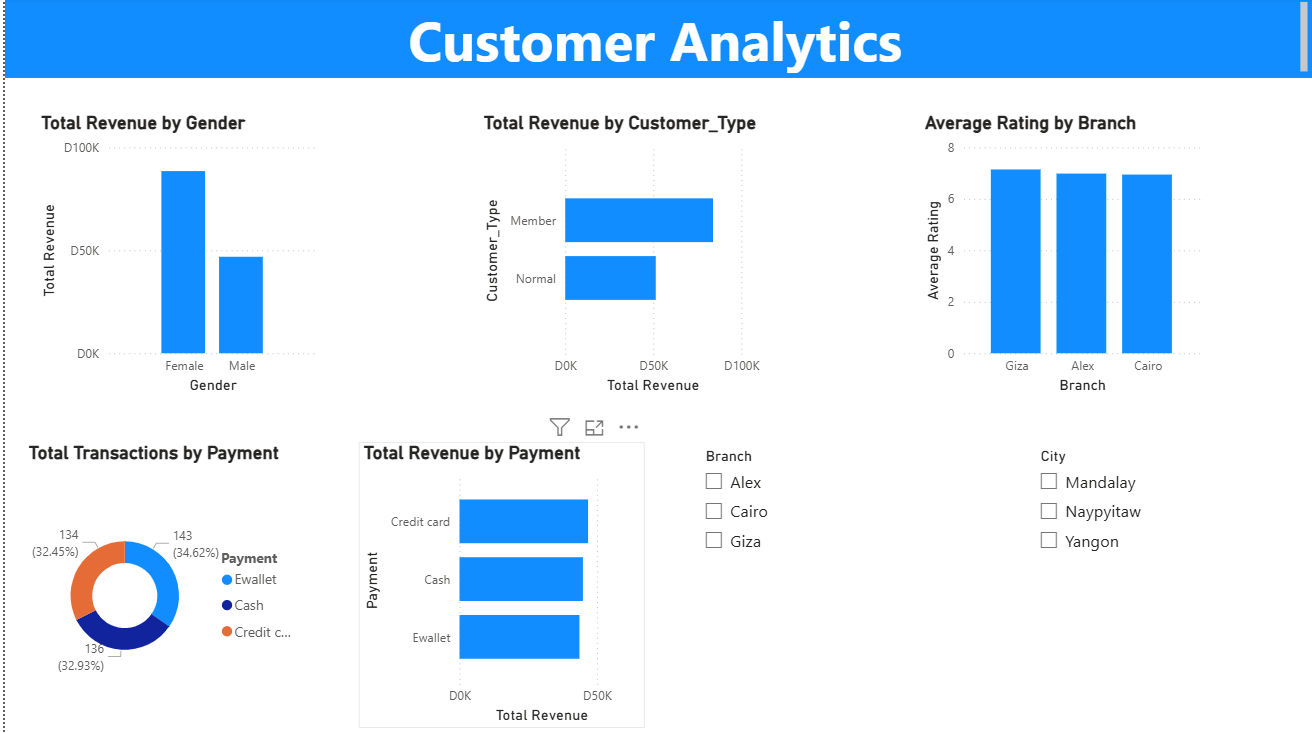

Layout of this report page (visuals, bound fields, positions):
{"tool":"powerbi","page":{"name":"Customer Insight","canvas":[1280,720],"ordinal":2},"visuals":[{"type":"clusteredColumnChart","fields":{"Category":["SuperMarket Analysis.Gender"],"Y":["SuperMarket Analysis.Total Revenue"]},"box":[30.6,112.7,280,280],"z":0},{"type":"clusteredBarChart","fields":{"Category":["SuperMarket Analysis.Customer_Type"],"Y":["SuperMarket Analysis.Total Revenue"]},"box":[462.8,112.7,280,280],"z":1000},{"type":"clusteredColumnChart","fields":{"Category":["SuperMarket Analysis.Branch"],"Y":["SuperMarket Analysis.Average Rating"]},"box":[895.1,112.7,280,280],"z":2000},{"type":"donutChart","fields":{"Category":["SuperMarket Analysis.Payment"],"Y":["SuperMarket Analysis.Total Transactions"]},"box":[18.3,435.3,280,280],"z":3000},{"type":"clusteredBarChart","fields":{"Category":["SuperMarket Analysis.Payment"],"Y":["SuperMarket Analysis.Total Revenue"]},"box":[345.7,435.3,280,280],"z":4000},{"type":"slicer","fields":{"Values":["SuperMarket Analysis.Branch"]},"box":[673,435.3,280,150.4],"z":5000},{"type":"slicer","fields":{"Values":["SuperMarket Analysis.City"]},"box":[1000,435.3,280,150.4],"z":6000},{"type":"textbox","box":[0,0,1280.3,79.5],"z":7000}]}

Visuals, with their boxes in screenshot pixels (x1, y1, x2, y2), scaled from the page's 1280x720 canvas onto the 1312x733 screenshot:
clusteredColumnChart - SuperMarket Analysis.Gender x SuperMarket Analysis.Total Revenue: box=[31, 115, 318, 400]
clusteredBarChart - SuperMarket Analysis.Customer_Type x SuperMarket Analysis.Total Revenue: box=[474, 115, 761, 400]
clusteredColumnChart - SuperMarket Analysis.Branch x SuperMarket Analysis.Average Rating: box=[917, 115, 1204, 400]
donutChart - SuperMarket Analysis.Payment x SuperMarket Analysis.Total Transactions: box=[19, 443, 306, 728]
clusteredBarChart - SuperMarket Analysis.Payment x SuperMarket Analysis.Total Revenue: box=[354, 443, 641, 728]
slicer - SuperMarket Analysis.Branch: box=[690, 443, 977, 596]
slicer - SuperMarket Analysis.City: box=[1025, 443, 1311, 596]
textbox: box=[0, 0, 1311, 81]
